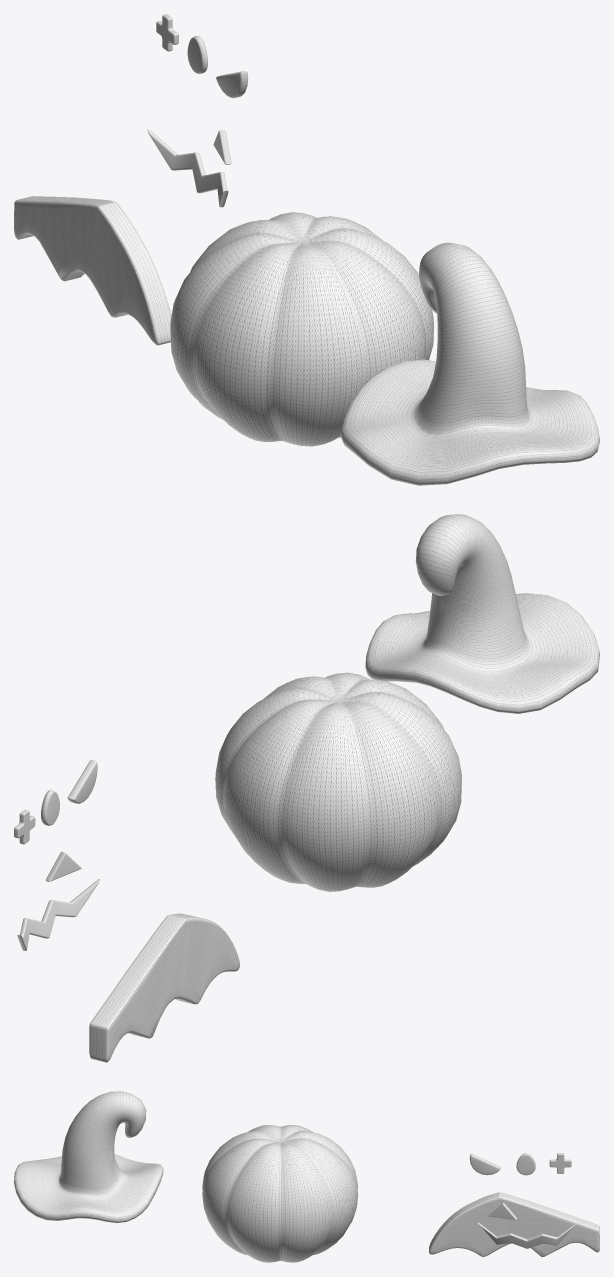
The model's file is A_Pumpkins.fbx.
3 views of the same model, one above another, from view 1: azimuth 30°, elevation 25°; view 2: azimuth 150°, elevation 25°; view 3: azimuth 270°, elevation 25° (orthographic). The views are drawn at different scales.
Visible parts, largest first — view 1: A_Pumpkins, Item_Pumpkins_1, Item_Pumpkins_3, Item_Pumpkins_4; view 2: A_Pumpkins, Item_Pumpkins_1, Item_Pumpkins_3; view 3: A_Pumpkins, Item_Pumpkins_1, Item_Pumpkins_3, Item_Pumpkins_4, Item_Pumpkins_5, Item_Pumpkins_2.
Part boxes in pixels (x1,y1,x2,y2): A_Pumpkins: [14, 196, 599, 485]; Item_Pumpkins_1: [147, 129, 228, 207]; Item_Pumpkins_3: [216, 71, 248, 98]; Item_Pumpkins_4: [187, 36, 207, 73]; A_Pumpkins: [89, 514, 599, 1062]; Item_Pumpkins_1: [17, 879, 100, 950]; Item_Pumpkins_3: [67, 760, 97, 803]; A_Pumpkins: [14, 1091, 599, 1262]; Item_Pumpkins_1: [477, 1222, 576, 1248]; Item_Pumpkins_3: [469, 1153, 500, 1175]; Item_Pumpkins_4: [516, 1153, 535, 1175]; Item_Pumpkins_5: [549, 1153, 571, 1173]; Item_Pumpkins_2: [488, 1202, 517, 1219].
Bounding box in the file's own units: 0.6248 × 0.7453 × 2.33.
